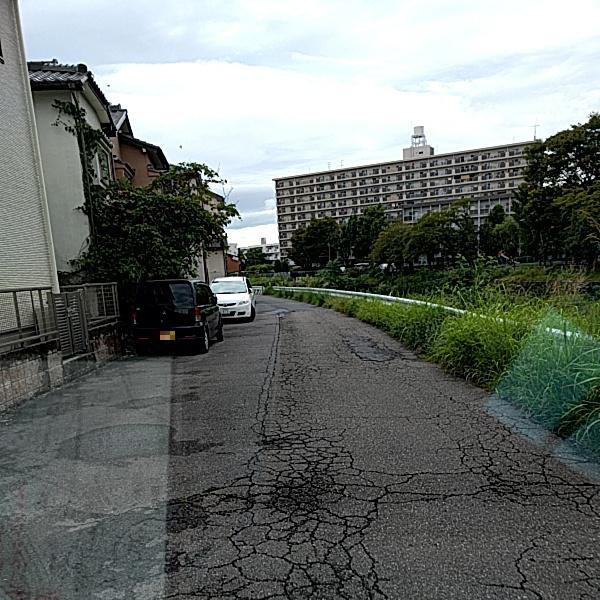D20: (122, 354, 599, 599)
